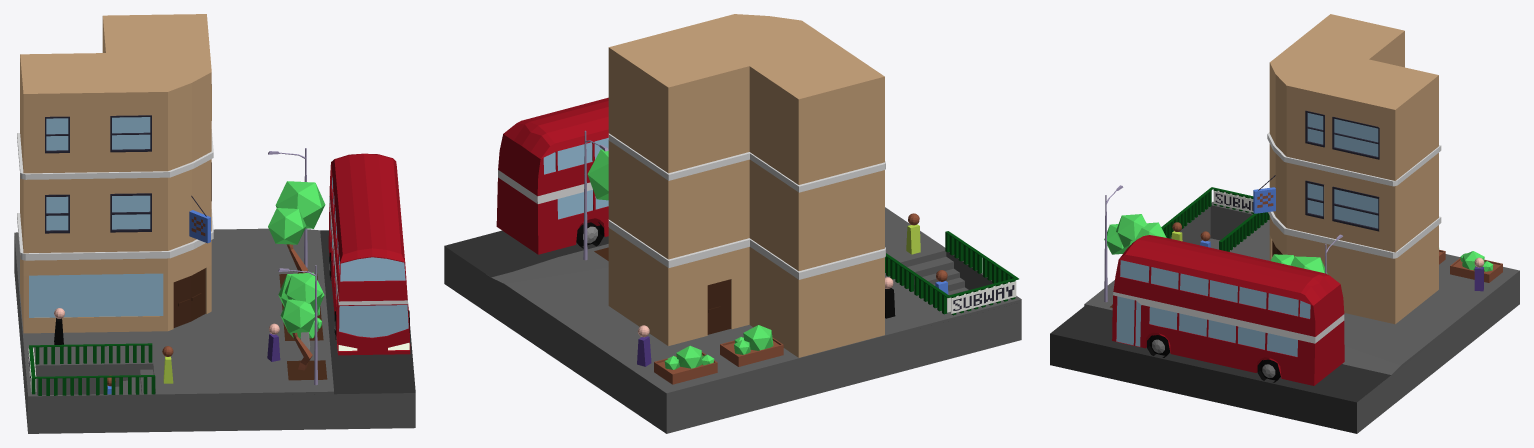
File: TodayUSA3.glb
The picture shows the model from 3 angles, left to right: view 1: azimuth 30°, elevation 25°; view 2: azimuth 150°, elevation 25°; view 3: azimuth 270°, elevation 25°; orthographic projection. The views are drawn at different scales.
Parts seen in each view (by area): view 1: Building, Base, Bus, Cube, Tree, Tree.001, Parking Sign, Streetlamp2.001, Person.002; view 2: Building, Base, Bus, Cube, Cube.001, Icosphere.001, Tree; view 3: Building, Base, Bus, Cube, Tree.001, Cube.001, Tree, Parking Sign.
Boxes of the visible parts, <box> form: Building: <box>17,14,213,333</box>; Base: <box>14,228,415,433</box>; Bus: <box>328,153,410,355</box>; Cube: <box>28,343,155,395</box>; Tree: <box>268,181,325,273</box>; Tree.001: <box>278,272,324,370</box>; Parking Sign: <box>189,195,210,243</box>; Streetlamp2.001: <box>278,265,317,385</box>; Person.002: <box>267,323,280,361</box>; Building: <box>608,14,885,357</box>; Base: <box>444,207,1021,433</box>; Bus: <box>496,97,608,254</box>; Cube: <box>885,231,1018,315</box>; Cube.001: <box>654,337,783,384</box>; Icosphere.001: <box>664,325,773,369</box>; Tree: <box>587,149,608,200</box>; Building: <box>1267,14,1441,324</box>; Base: <box>1050,202,1519,433</box>; Bus: <box>1112,235,1344,385</box>; Cube: <box>1161,187,1269,251</box>; Tree.001: <box>1104,214,1166,254</box>; Cube.001: <box>1439,249,1502,282</box>; Tree: <box>1271,254,1327,274</box>; Parking Sign: <box>1253,175,1275,213</box>.
Bounding box in the file's own units: 8.11 × 4.72 × 8.11.
